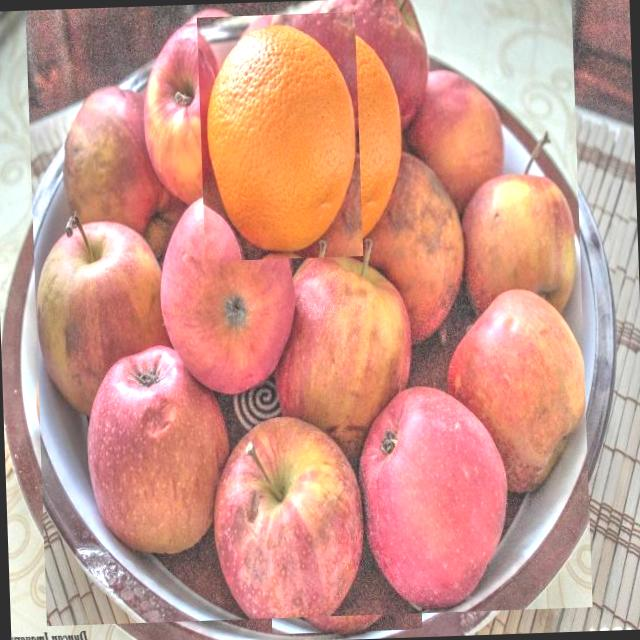Apple: (356, 383, 509, 609), (76, 340, 226, 555), (210, 413, 362, 623), (444, 282, 588, 490), (153, 192, 294, 402), (268, 253, 412, 432), (133, 9, 264, 204), (35, 220, 156, 412), (362, 154, 464, 344), (460, 171, 578, 318), (58, 83, 172, 227), (402, 64, 507, 204), (322, 0, 430, 128)
Orange: (196, 12, 362, 261)
